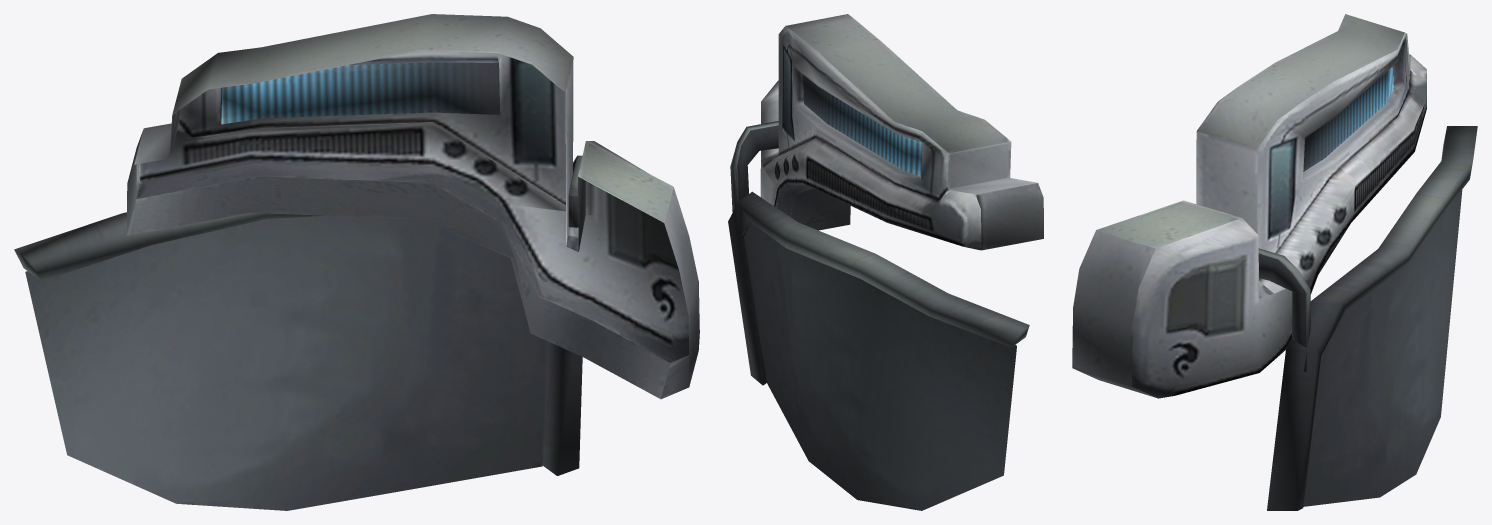
Rendered from scanner.glb.
3 renders of one model, left to right at view 1: azimuth 30°, elevation 25°; view 2: azimuth 150°, elevation 25°; view 3: azimuth 270°, elevation 25°, orthographic. The views are drawn at different scales.
Parts seen in each view (by area): view 1: Line01; view 2: Line01; view 3: Line01.
Part boxes in pixels (x1,y1,x2,y2): Line01: (14,14,699,510); Line01: (728,14,1043,510); Line01: (1072,14,1477,510).
Bounding box in the file's own units: 3.15 × 3.11 × 2.64.
1 material, 1 textured.
